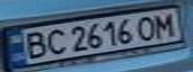1: (100, 18, 121, 47)
2: (66, 23, 90, 53)
6: (115, 16, 139, 44), (84, 20, 106, 50)
B: (18, 29, 51, 61)
C: (42, 26, 69, 56)
M: (151, 10, 178, 38)
O: (133, 14, 160, 40)
